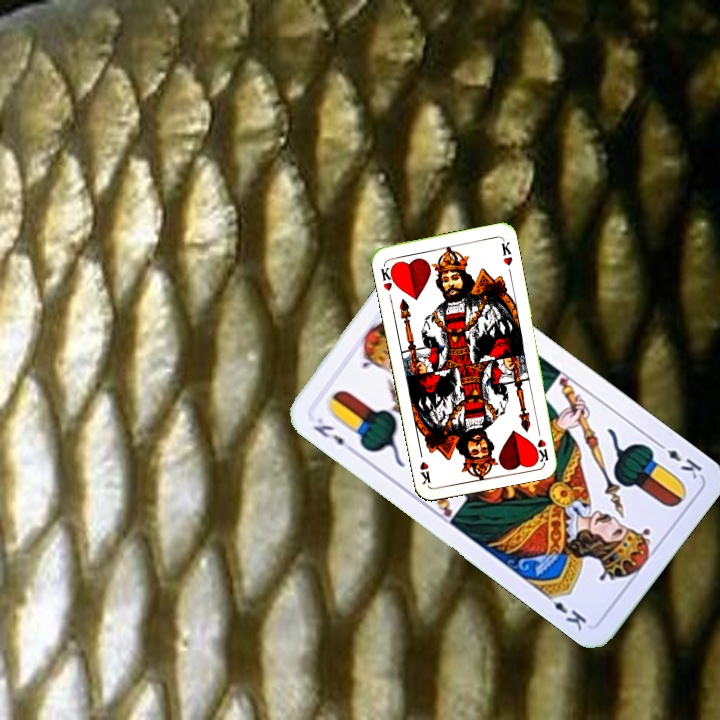EK: (652, 437, 705, 482), (309, 413, 358, 456)
HK: (533, 422, 551, 463), (377, 260, 399, 293)
